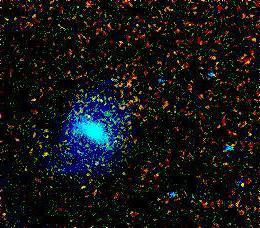star: (84, 84, 114, 114)
